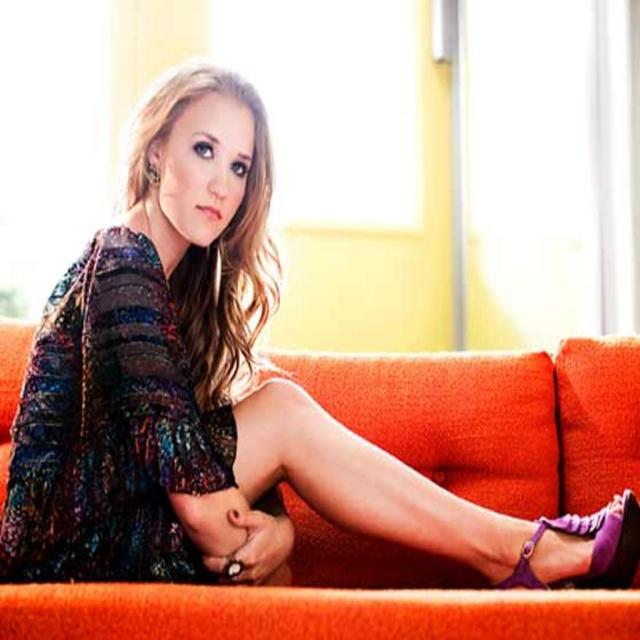Face: (160, 89, 256, 249)
